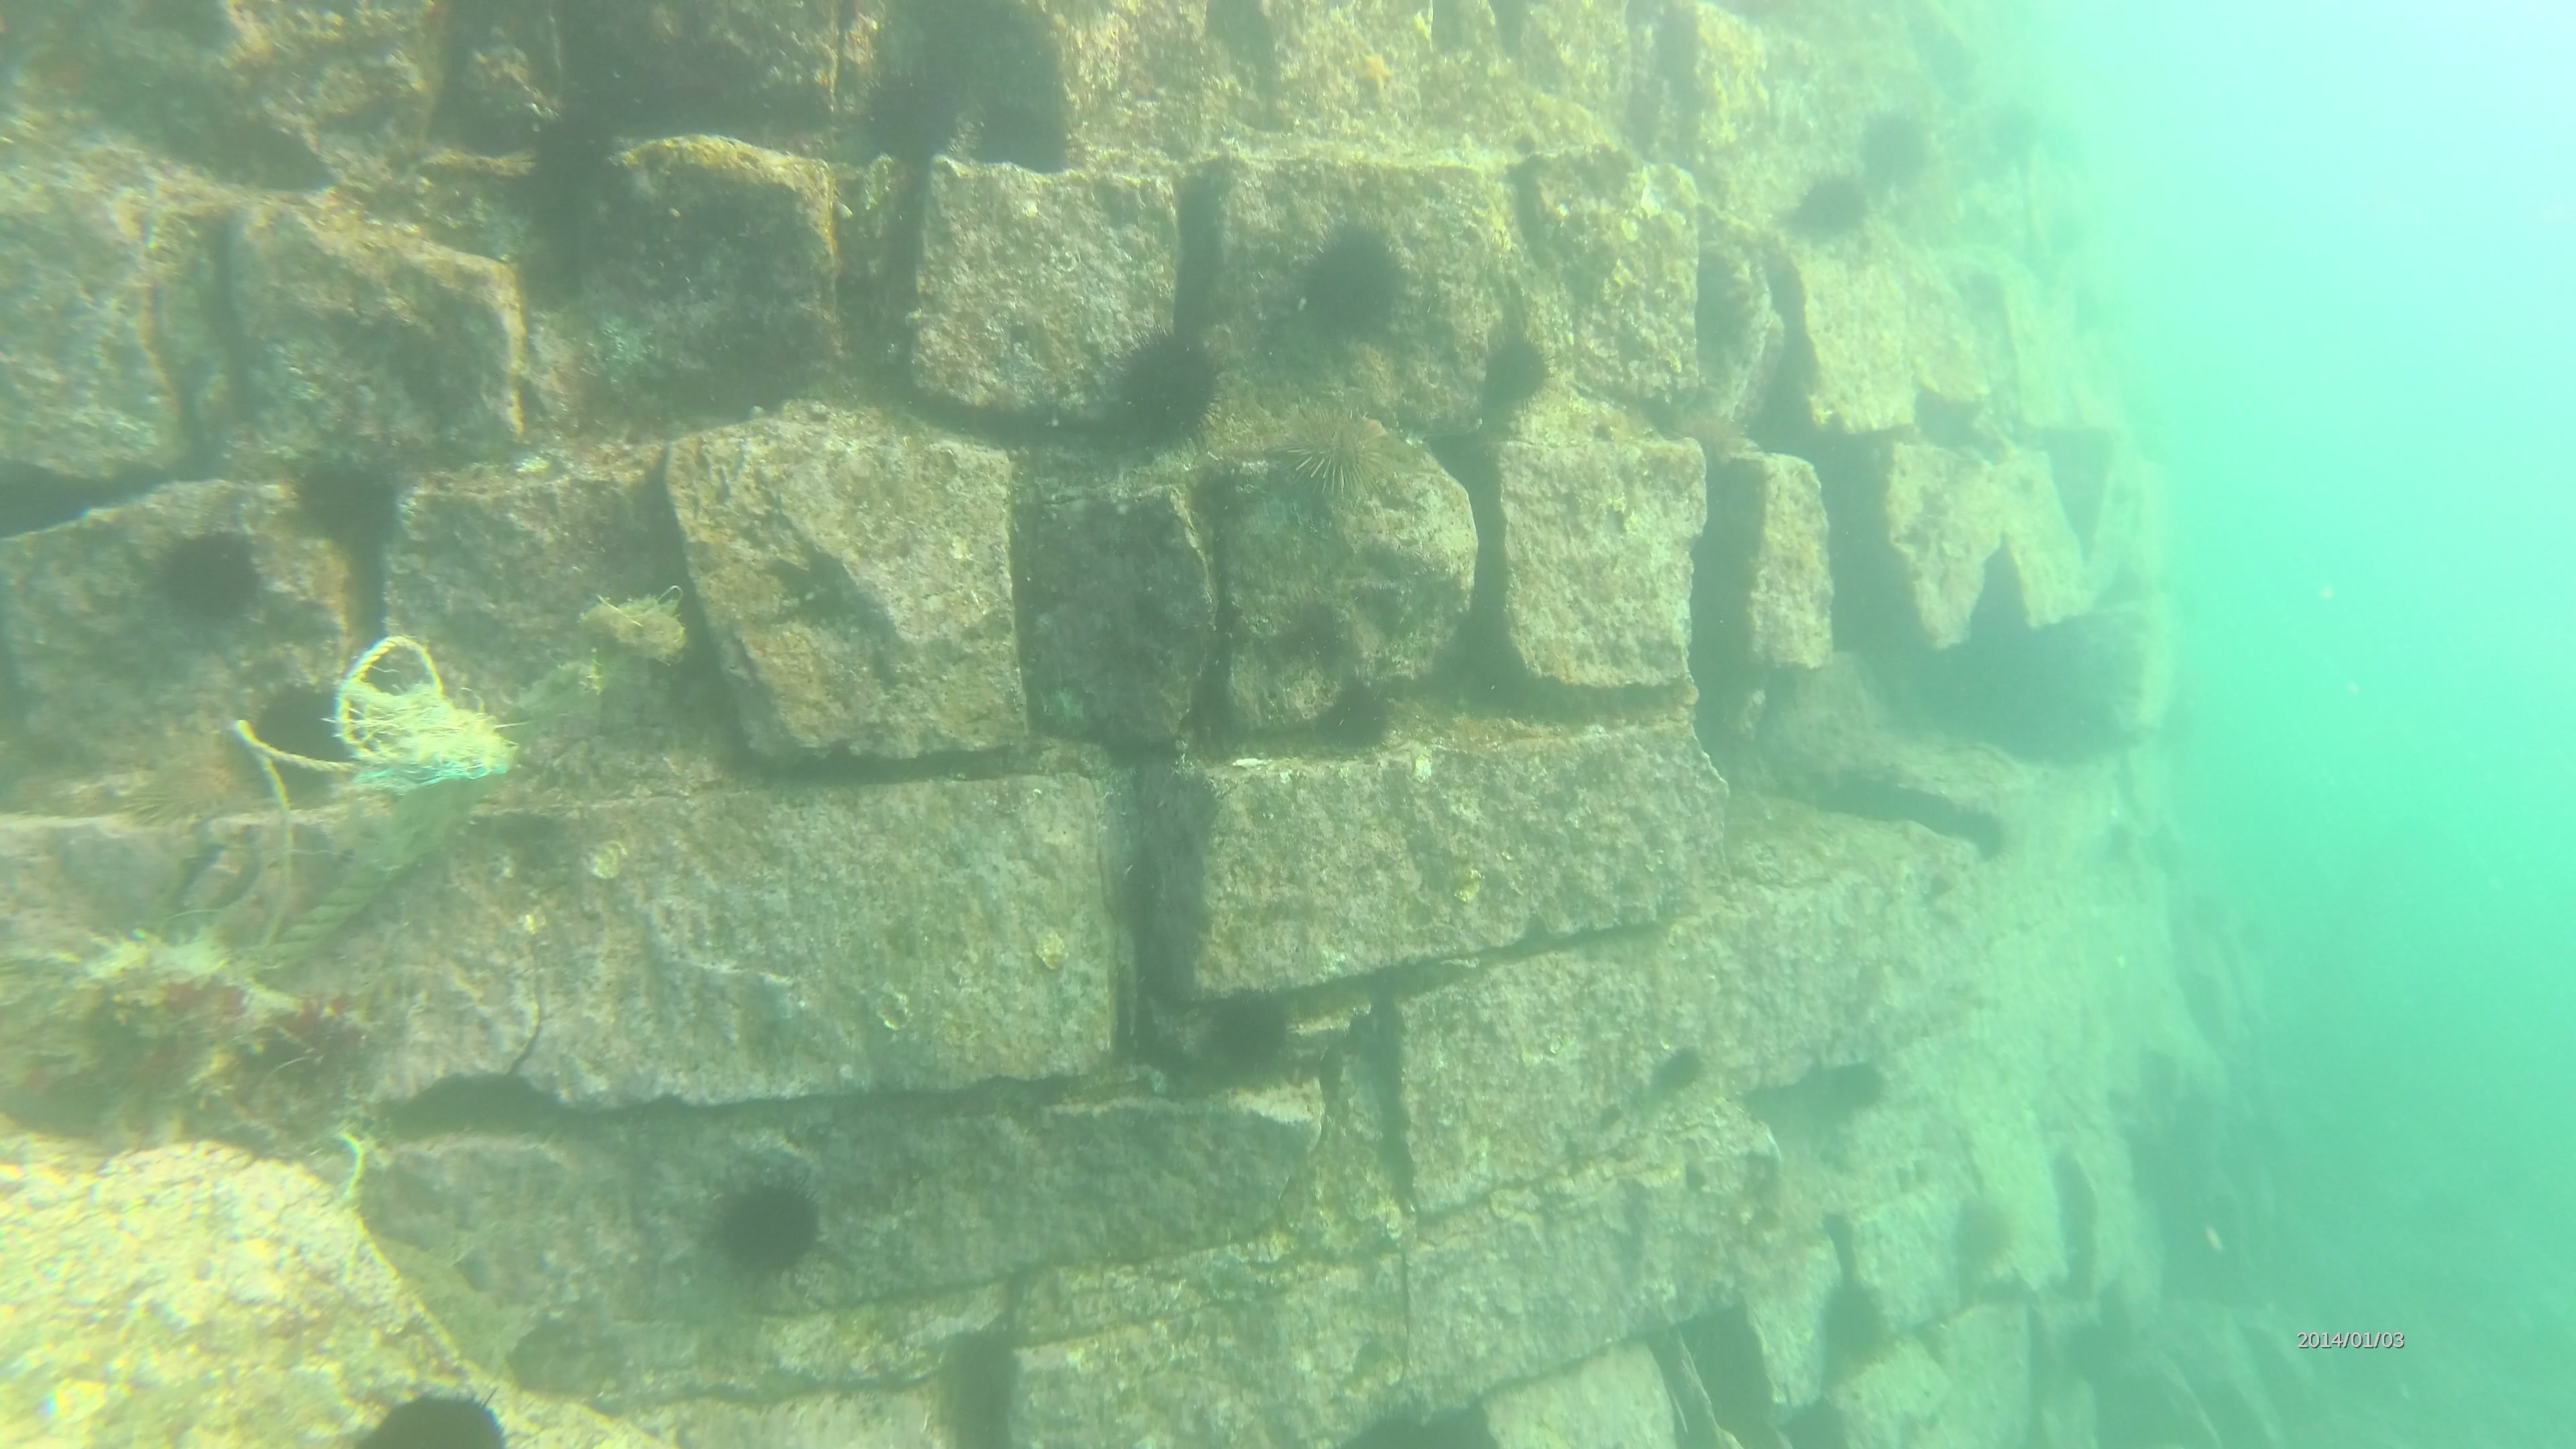echinus: (1099, 322, 1230, 458), (115, 722, 264, 837), (1288, 212, 1415, 343), (1269, 395, 1403, 511), (702, 1166, 830, 1284), (234, 678, 357, 789), (283, 446, 405, 556), (149, 522, 269, 632), (855, 67, 970, 177), (1191, 982, 1304, 1092), (962, 90, 1077, 182), (368, 1380, 511, 1449), (1810, 1274, 1898, 1376), (1782, 165, 1877, 251), (1851, 103, 1939, 195), (1309, 672, 1401, 761), (1472, 324, 1557, 419), (1960, 92, 2047, 184), (1941, 1189, 2022, 1283), (1950, 796, 2020, 869), (1652, 1042, 1714, 1097)
